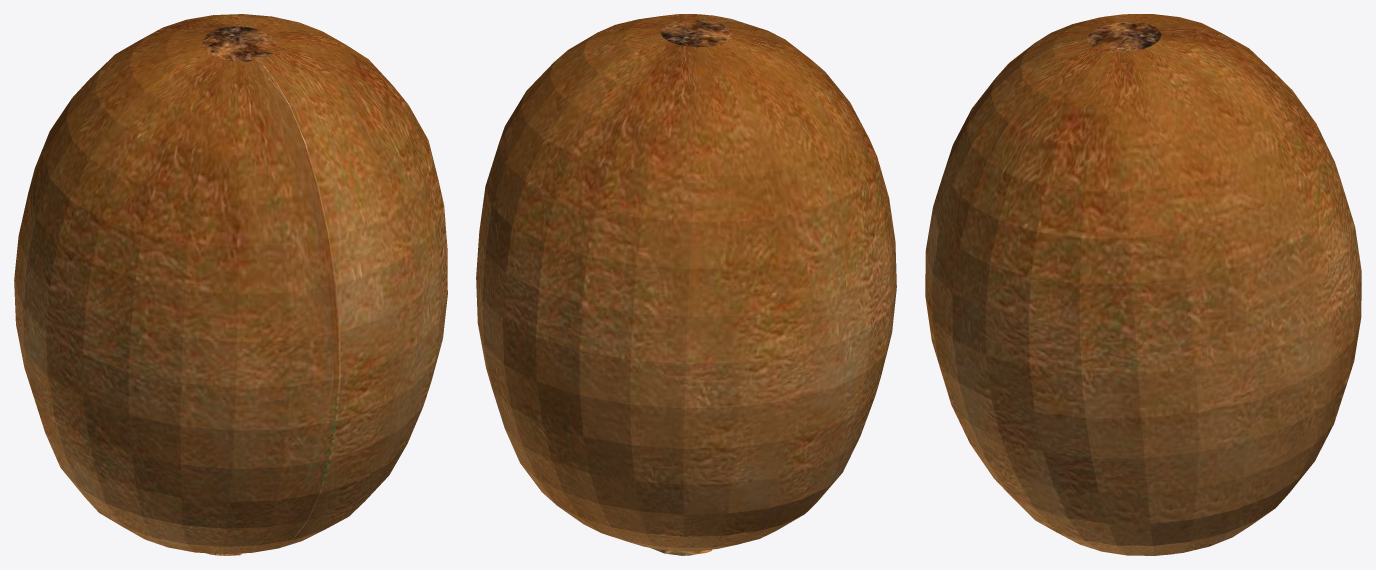
The model's file is kiwi.obj.
3 views of the same model, side by side, from view 1: azimuth 30°, elevation 25°; view 2: azimuth 150°, elevation 25°; view 3: azimuth 270°, elevation 25° (orthographic). The views are drawn at different scales.
Visible parts, largest first — view 1: Kiwi02, Kiwi_Bottom02; view 2: Kiwi02, Kiwi_Bottom02; view 3: Kiwi02, Kiwi_Bottom02.
Part boxes in pixels (x1,y1,x2,y2): Kiwi02: [14, 14, 447, 554]; Kiwi_Bottom02: [202, 26, 276, 61]; Kiwi02: [476, 14, 896, 551]; Kiwi_Bottom02: [660, 20, 732, 47]; Kiwi02: [925, 14, 1361, 555]; Kiwi_Bottom02: [1087, 21, 1161, 52].
Size of the model in its own units: 52.43 by 68.91 by 53.61.
